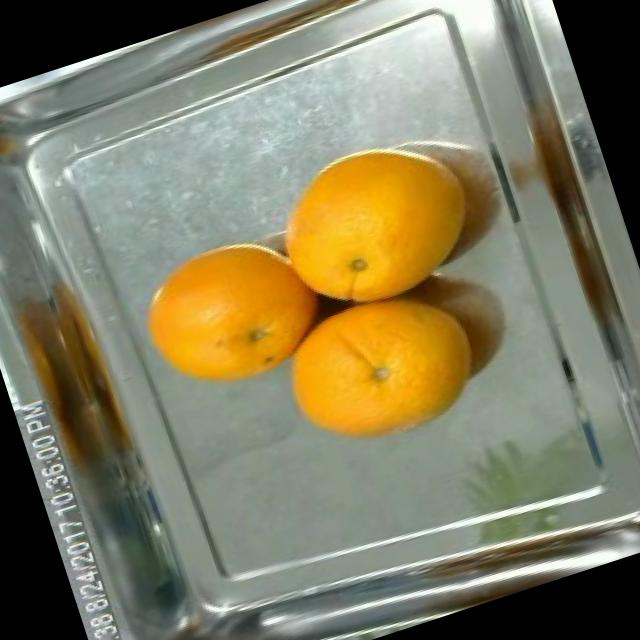Fruit: (114, 212, 344, 422), (258, 282, 450, 470)
